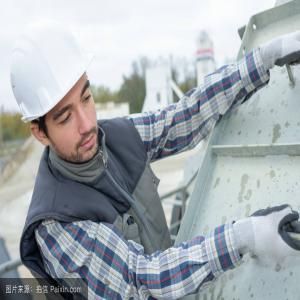white: (12, 23, 104, 167)
